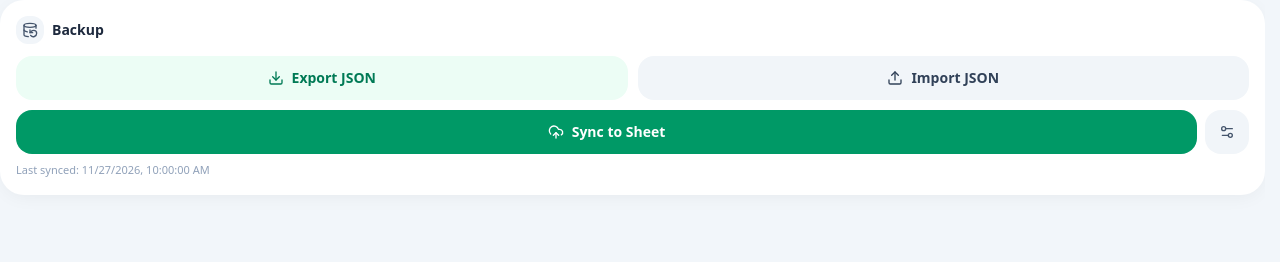
Test case: BackupControls Google Sheet Sync › reports up to date when local and remote match
Click the button "Sync to Sheet": (606, 132) [16, 110, 1197, 154]
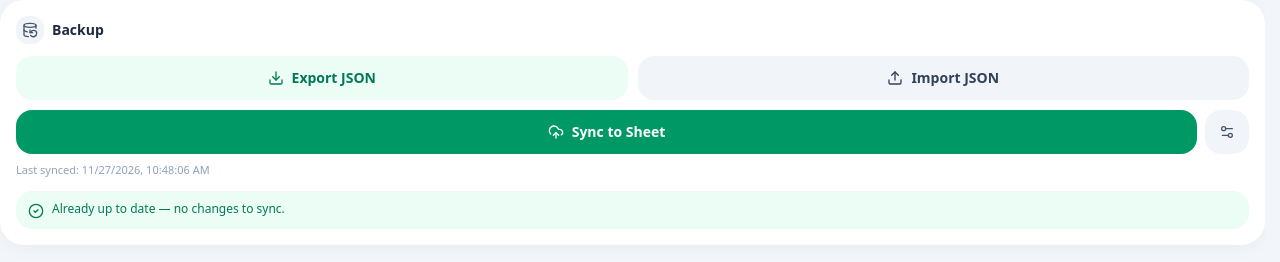
Expected: the message shows "Already up to date", [52, 200, 285, 216]
